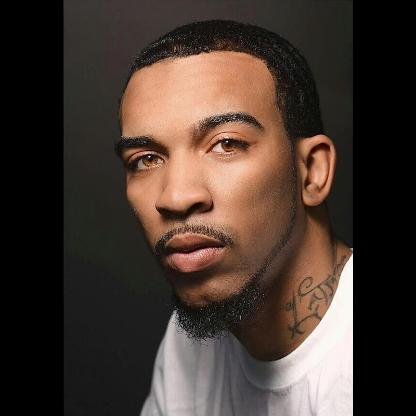Male: (118, 58, 336, 304)
